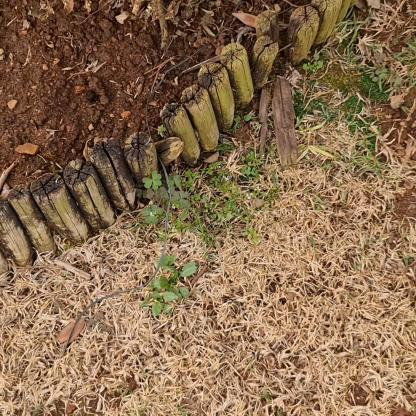Weeds: (141, 254, 198, 317), (139, 171, 189, 223)
